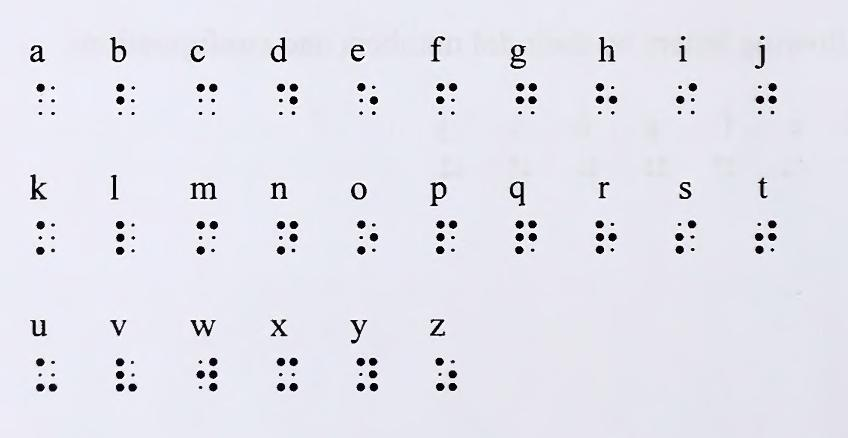letter_a: (36, 83, 55, 115)
letter_b: (116, 83, 135, 115)
letter_c: (197, 83, 217, 115)
letter_d: (277, 83, 298, 115)
letter_e: (357, 83, 378, 115)
letter_f: (436, 83, 457, 115)
letter_g: (516, 83, 537, 115)
letter_h: (596, 83, 617, 115)
letter_i: (676, 83, 697, 115)
letter_j: (756, 83, 777, 115)
letter_k: (36, 221, 55, 255)
letter_l: (116, 221, 135, 255)
letter_m: (196, 221, 218, 255)
letter_n: (277, 221, 298, 255)
letter_o: (357, 220, 378, 255)
letter_p: (436, 220, 457, 254)
letter_q: (515, 220, 537, 254)
letter_r: (595, 220, 617, 254)
letter_s: (675, 220, 696, 254)
letter_t: (755, 220, 777, 254)
letter_u: (36, 358, 57, 392)
letter_v: (116, 358, 136, 392)
letter_w: (197, 358, 218, 391)
letter_x: (277, 358, 298, 391)
letter_y: (356, 358, 378, 392)
letter_z: (435, 357, 457, 391)
